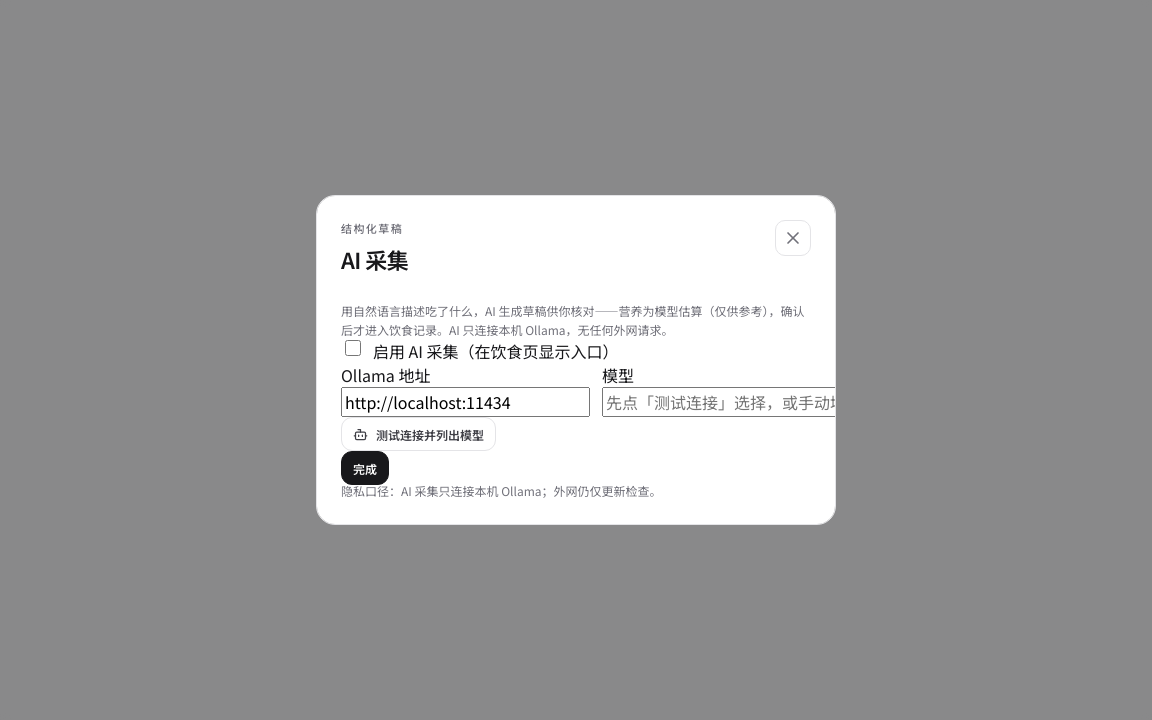
Test case: settings modal tests connection and lists models
What coordinates should you click on to do the following:
click the button "测试连接并列出模型"
I would click on:
 (418, 434)
Its box is [341,417,496,451].
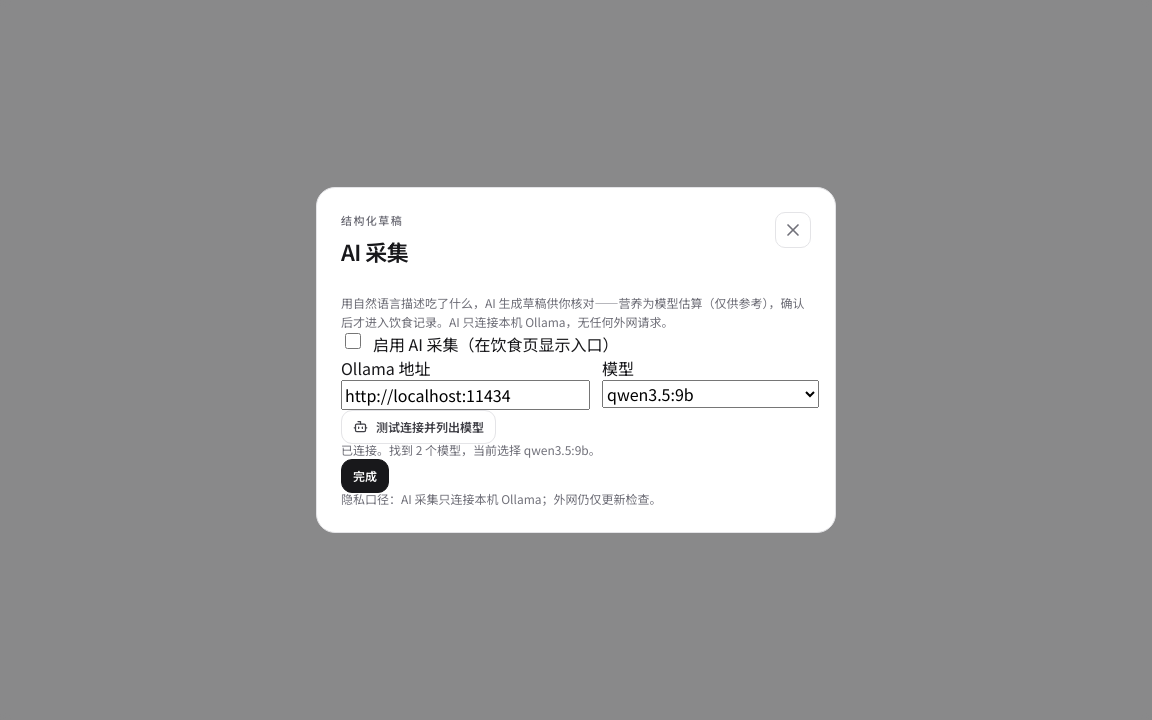
Check: the dropdown labelled "模型" shows "qwen3.5:9b", box [602,380,819,408]
